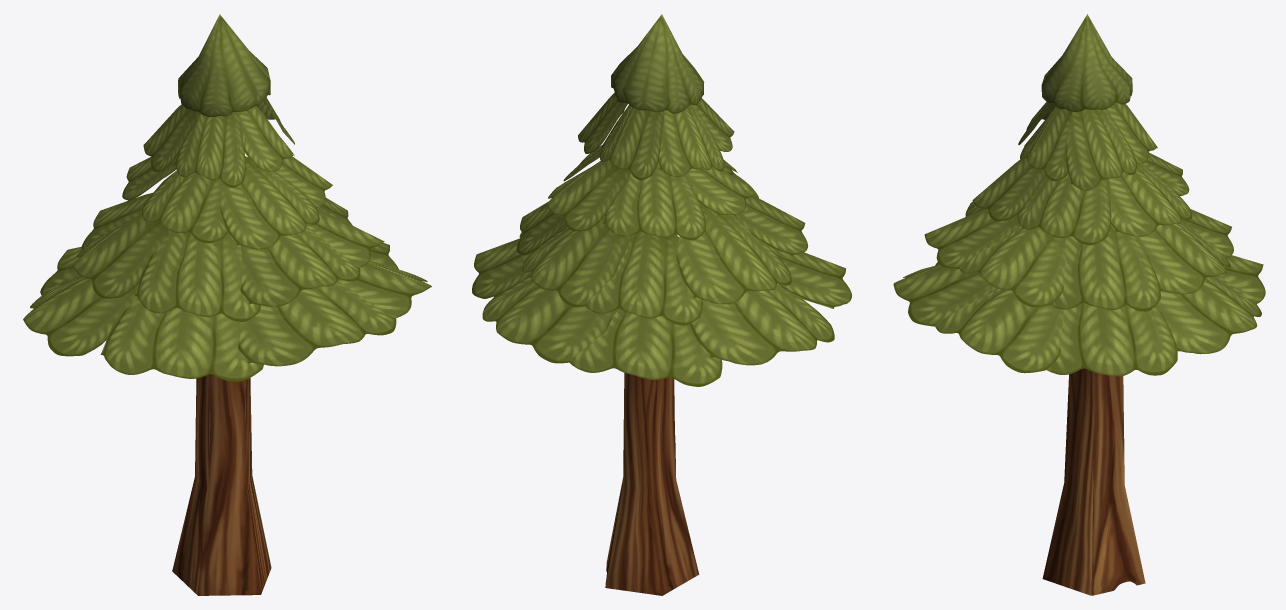
Rendered from farm_tree_01.dae.
The picture shows the model from 3 angles, left to right: view 1: azimuth 30°, elevation 25°; view 2: azimuth 150°, elevation 25°; view 3: azimuth 270°, elevation 25°; orthographic projection. The views are drawn at different scales.
Visible parts, largest first — view 1: farm_tree; view 2: farm_tree; view 3: farm_tree.
Boxes of the visible parts, x1,y1,x2,y2 form: farm_tree: [23, 14, 431, 595]; farm_tree: [472, 14, 851, 595]; farm_tree: [893, 14, 1265, 595].
Size of the model in its own units: 2.27 by 2.13 by 3.37.
1 material, 1 textured.
